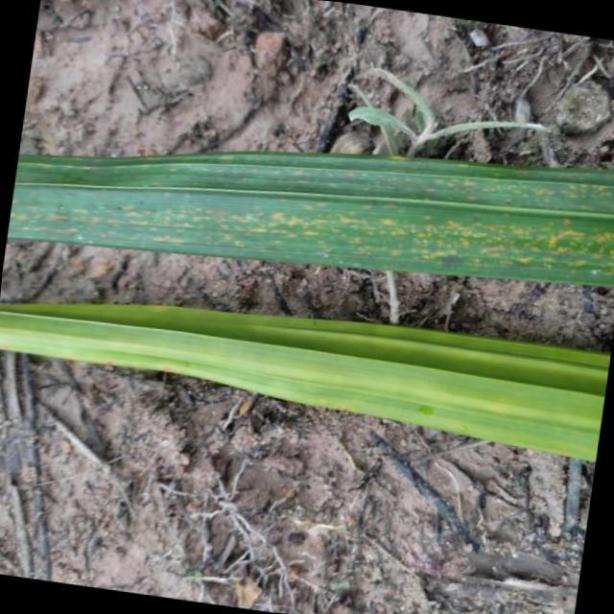nitrogen: (0, 298, 609, 478)
